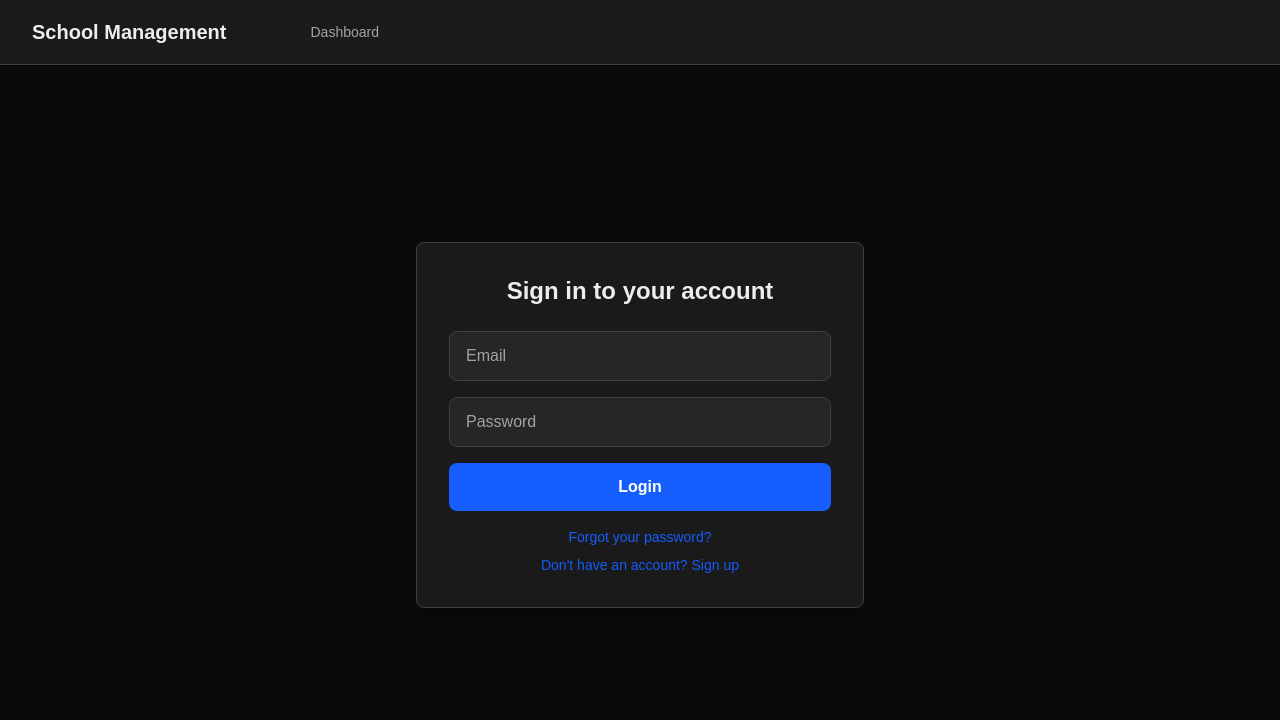
Authentication E2E Tests › Login Page › should handle login failure
Type "wrong@example.com" into the field with id "email" at point(640, 356), box [449, 331, 831, 381]
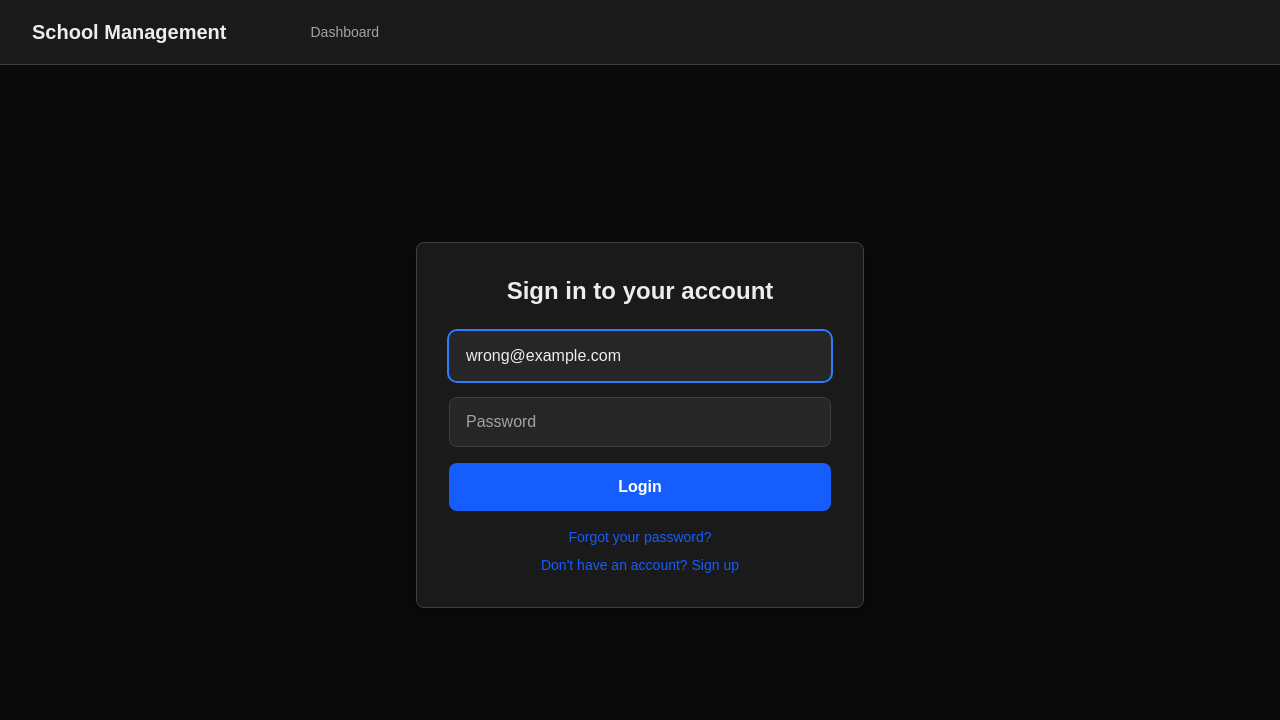
Type "wrongpassword" into the password field with placeholder "Password" at point(640, 422), box [449, 397, 831, 447]
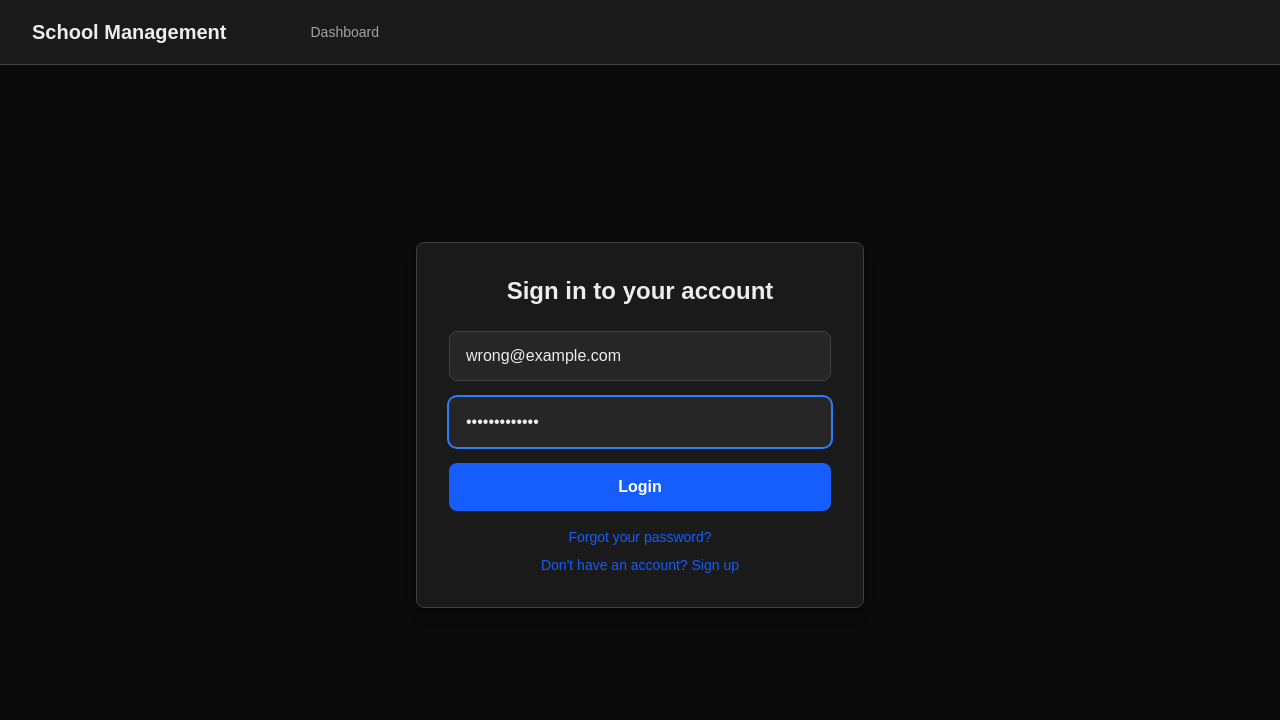
Click the submit button at point(640, 487), box [449, 463, 831, 511]
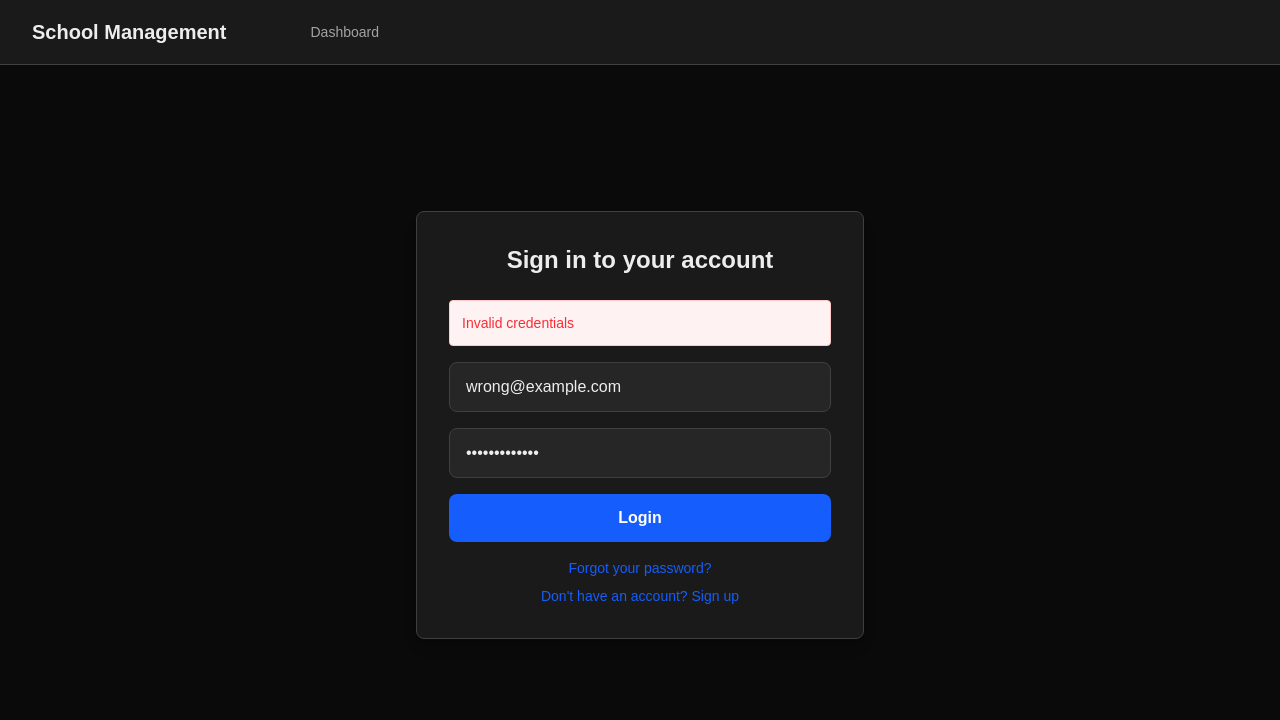
expect the text "Invalid credentials" is shown: met, box [449, 300, 831, 346]
